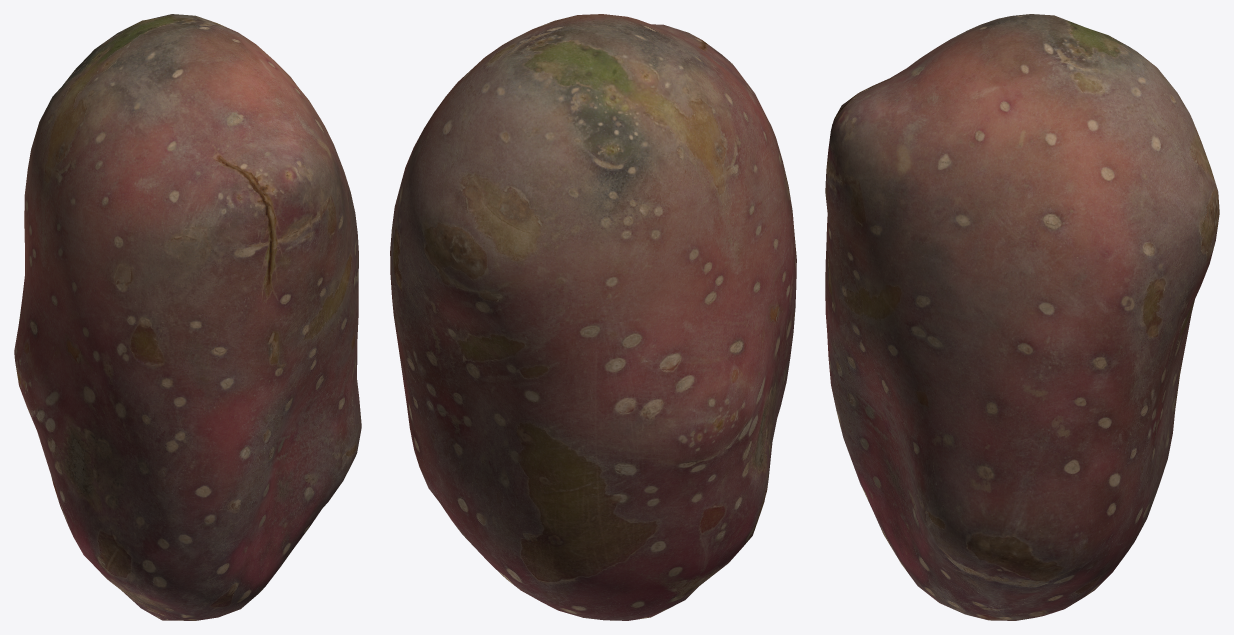
File: sweet_potato_2k.fbx
3 renders of one model, left to right at view 1: azimuth 30°, elevation 25°; view 2: azimuth 150°, elevation 25°; view 3: azimuth 270°, elevation 25°, orthographic. The views are drawn at different scales.
Parts seen in each view (by area): view 1: sweet_potato; view 2: sweet_potato; view 3: sweet_potato.
Boxes of the visible parts, <box> form: sweet_potato: <box>14,14,361,620</box>; sweet_potato: <box>390,14,796,620</box>; sweet_potato: <box>825,14,1219,620</box>.
Size of the model in its own units: 5.81 by 10.05 by 6.1.
Materials: 1 (1 with a texture image).
